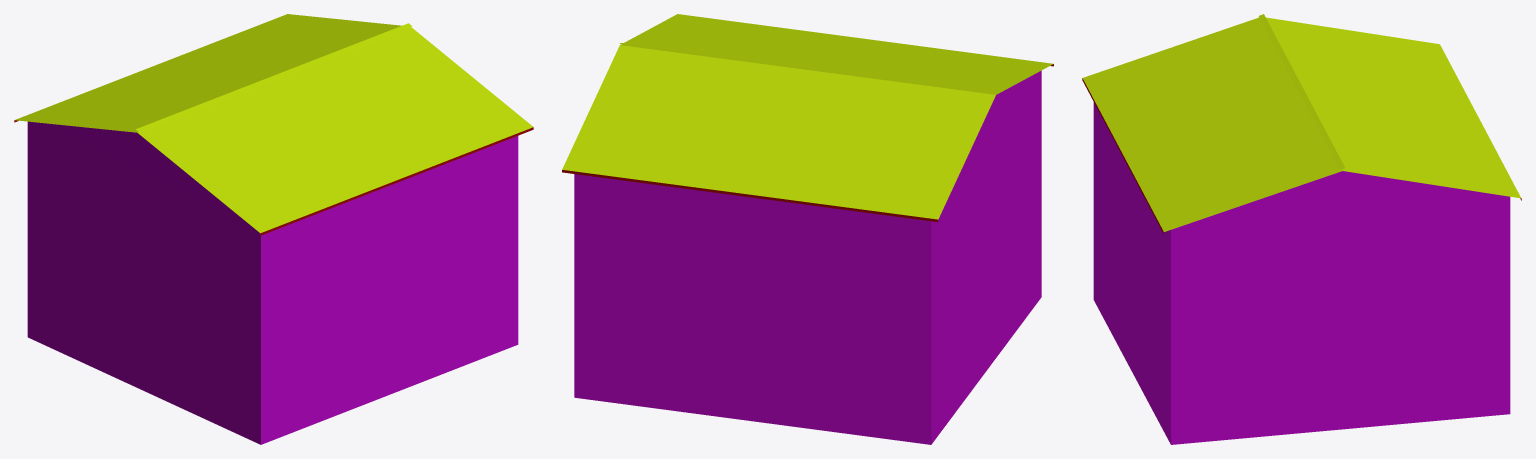
The model's file is dol_40.glb.
The picture shows the model from 3 angles, left to right: view 1: azimuth 30°, elevation 25°; view 2: azimuth 150°, elevation 25°; view 3: azimuth 270°, elevation 25°; orthographic projection. The views are drawn at different scales.
Visible parts, largest first — view 1: dol_40; view 2: dol_40; view 3: dol_40.
Boxes of the visible parts, left/top/right/bottom form: dol_40: left=14, top=14, right=533, bottom=444; dol_40: left=562, top=14, right=1053, bottom=444; dol_40: left=1082, top=14, right=1521, bottom=444.
Bounding box in the file's own units: 19.16 × 12.62 × 18.91.
